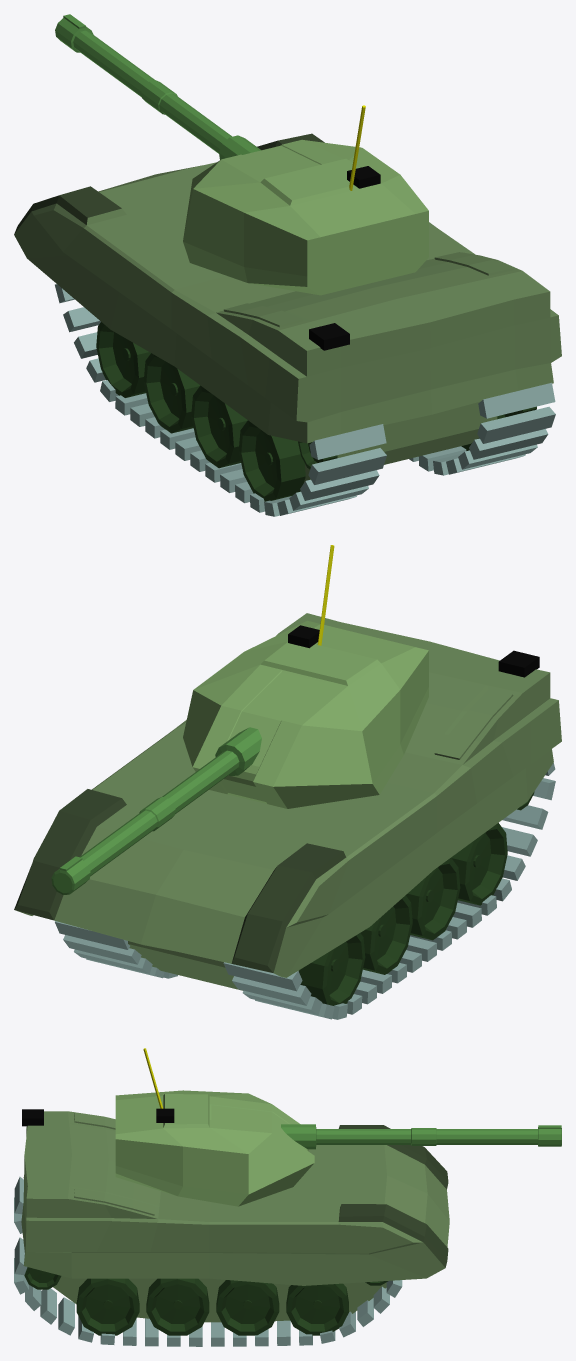
Rendered from tnk_mdl_no_rig.fbx.
The picture shows the model from 3 angles, top to bottom: view 1: azimuth 30°, elevation 25°; view 2: azimuth 150°, elevation 25°; view 3: azimuth 270°, elevation 25°; orthographic projection. The views are drawn at different scales.
Visible parts, largest first — view 1: tnk_body, tnk_head, tnk_treads, tnk_wheels, tnk_barrel, tnk_chassy, tnk_box1; view 2: tnk_body, tnk_head, tnk_treads, tnk_wheels, tnk_barrel, tnk_chassy, tnk_box1; view 3: tnk_body, tnk_head, tnk_wheels, tnk_treads, tnk_barrel, tnk_chassy, tnk_box1.
Part boxes in pixels (box(x1,y1,x2,y2)): tnk_body: box(14, 133, 561, 443); tnk_head: box(183, 139, 428, 295); tnk_treads: box(55, 284, 555, 516); tnk_wheels: box(96, 322, 536, 501); tnk_barrel: box(55, 14, 260, 159); tnk_chassy: box(304, 401, 497, 482); tnk_box1: box(309, 323, 349, 350); tnk_body: box(14, 613, 561, 977); tnk_head: box(183, 620, 428, 808); tnk_treads: box(55, 763, 555, 1019); tnk_wheels: box(299, 791, 534, 1005); tnk_barrel: box(51, 727, 261, 894); tnk_chassy: box(128, 941, 298, 990); tnk_box1: box(498, 650, 539, 677); tnk_body: box(21, 1111, 449, 1285); tnk_head: box(115, 1090, 314, 1206); tnk_wheels: box(24, 1267, 388, 1335); tnk_treads: box(14, 1176, 402, 1346); tnk_barrel: box(281, 1124, 561, 1149); tnk_chassy: box(53, 1276, 386, 1322); tnk_box1: box(22, 1109, 43, 1126).
Bounding box in the file's own units: 10.24 × 13.1 × 24.89.
